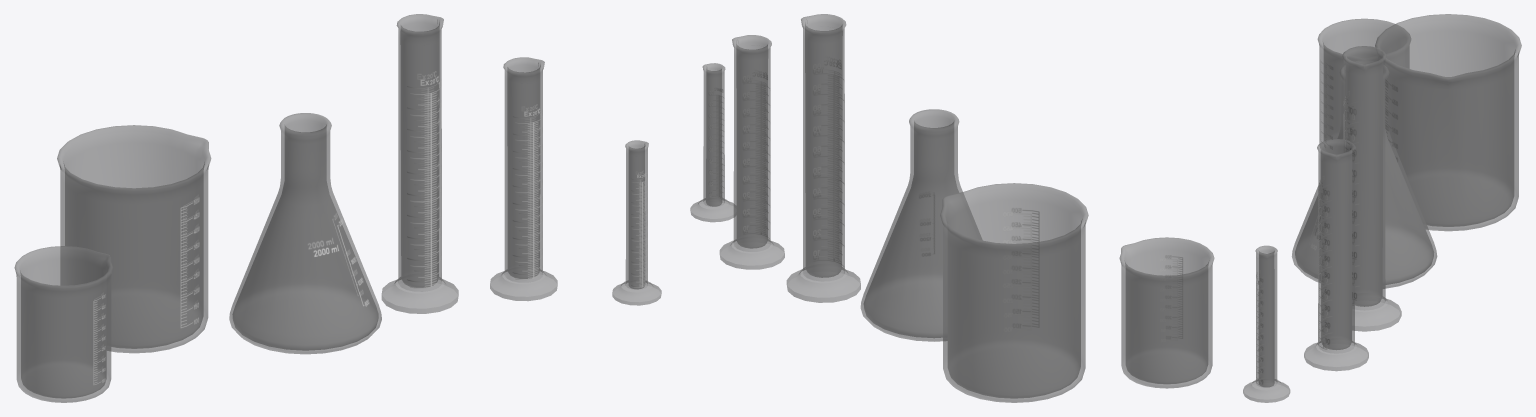
Rendered from glassware.glb.
3 views of the same model, side by side, from view 1: azimuth 30°, elevation 25°; view 2: azimuth 150°, elevation 25°; view 3: azimuth 270°, elevation 25° (orthographic). The views are drawn at different scales.
Visible parts, largest first — view 1: lab_beaker_a, lab_erlenmeyer_a, lab_beaker_b, lab_cylinder_a, lab_cylinder_b, lab_cylinder_c; view 2: lab_beaker_a, lab_erlenmeyer_a, lab_beaker_b, lab_cylinder_a, lab_cylinder_b, lab_cylinder_c; view 3: lab_beaker_a, lab_cylinder_a, lab_cylinder_b, lab_erlenmeyer_a, lab_beaker_b, lab_cylinder_c.
Boxes of the visible parts, x1,y1,x2,y2 form: lab_beaker_a: [57, 125, 211, 353]; lab_erlenmeyer_a: [229, 113, 381, 354]; lab_beaker_b: [14, 246, 112, 402]; lab_cylinder_a: [381, 14, 458, 313]; lab_cylinder_b: [490, 57, 557, 300]; lab_cylinder_c: [612, 140, 661, 305]; lab_beaker_a: [940, 183, 1088, 402]; lab_erlenmeyer_a: [860, 109, 981, 341]; lab_beaker_b: [1119, 237, 1214, 388]; lab_cylinder_a: [786, 14, 860, 302]; lab_cylinder_b: [719, 35, 784, 269]; lab_cylinder_c: [690, 63, 736, 222]; lab_beaker_a: [1375, 14, 1521, 231]; lab_cylinder_a: [1342, 46, 1401, 331]; lab_cylinder_b: [1304, 139, 1368, 371]; lab_erlenmeyer_a: [1292, 60, 1437, 288]; lab_beaker_b: [1317, 18, 1410, 152]; lab_cylinder_c: [1243, 245, 1290, 402].
Bounding box in the file's own units: 46.06 × 20.66 × 19.95.
Materials: 3 (3 with a texture image).
